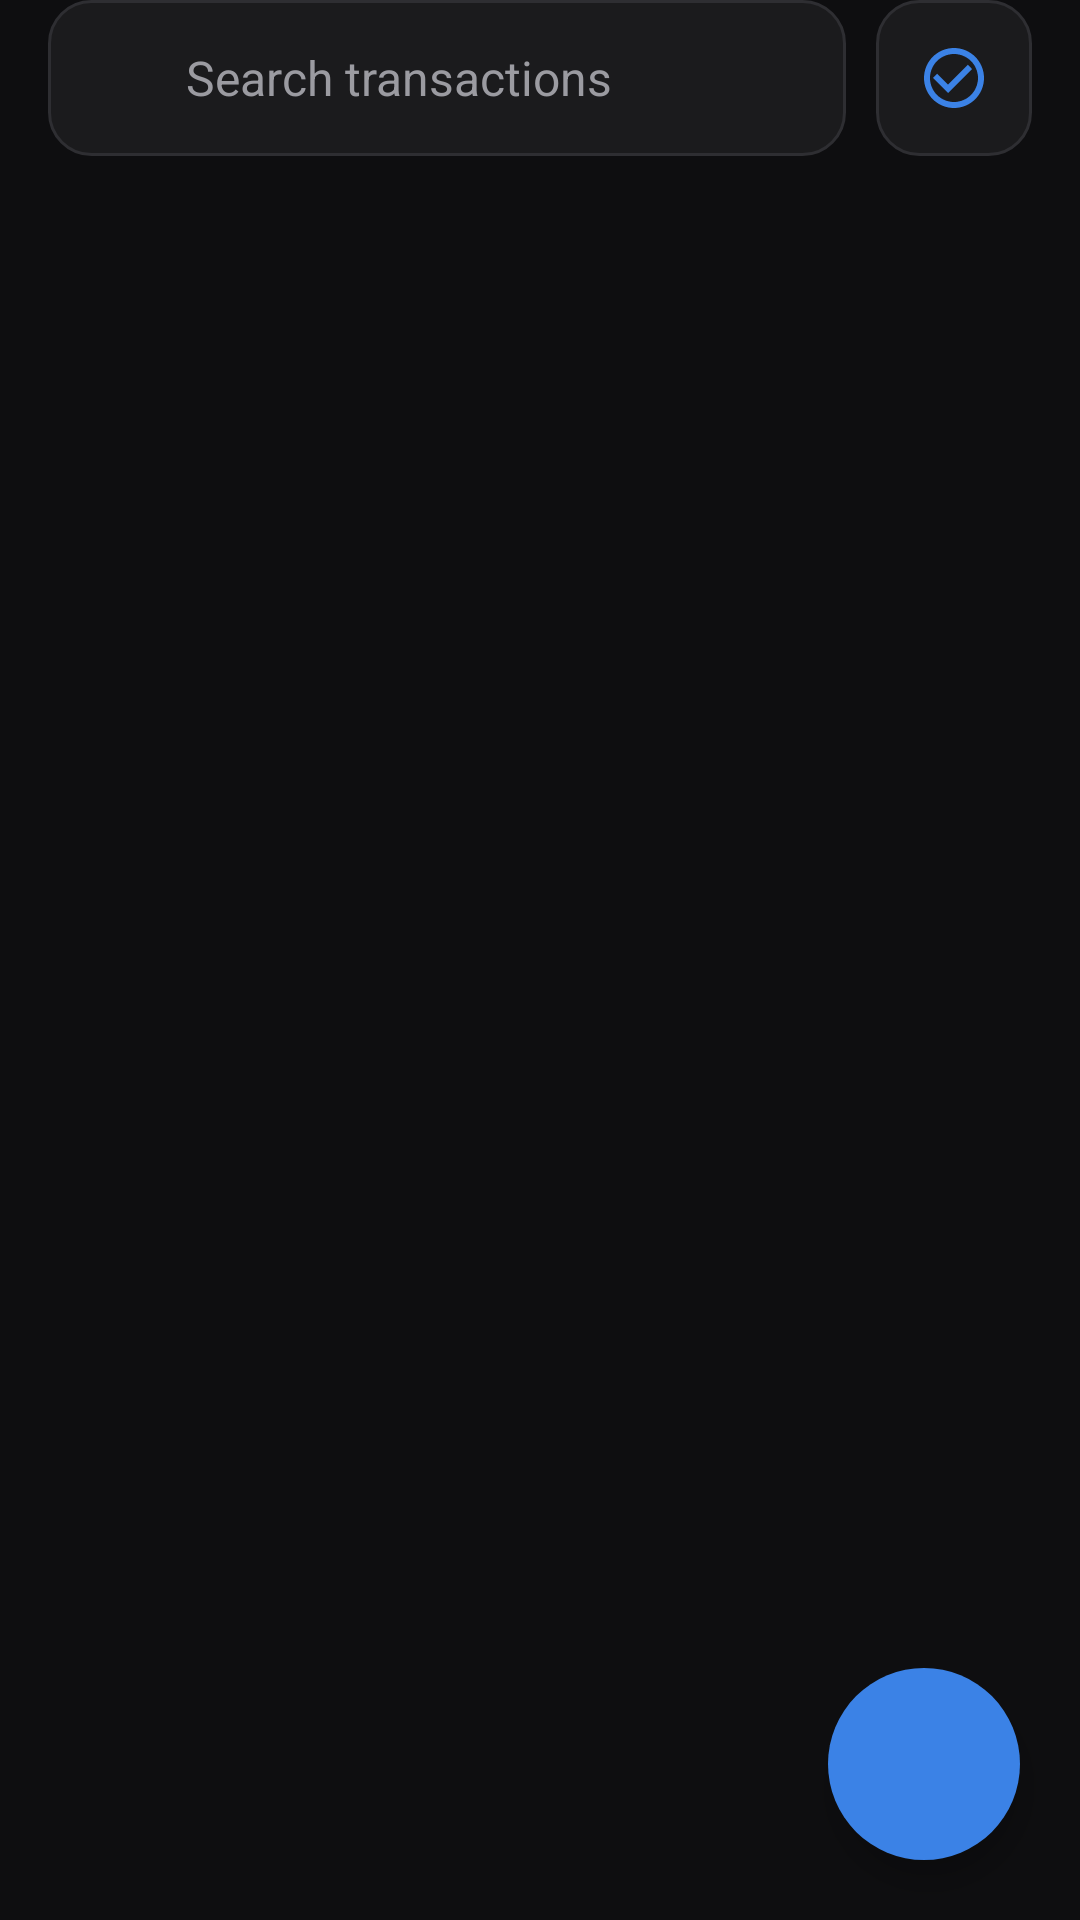

Screen size 1080×1920. Icon name, then its box in pixels as (x1, y1, x2, y2):
Select: (876, 0, 1032, 156)
